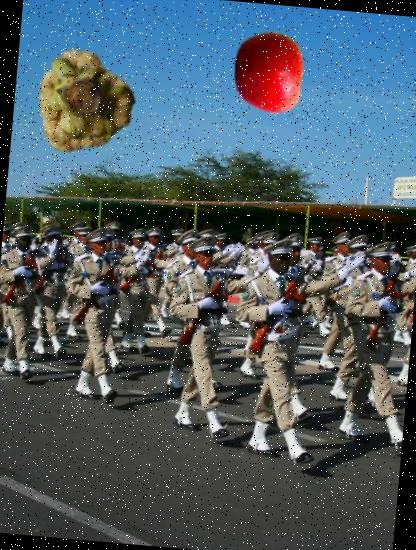Apple: (224, 28, 314, 118)
Cauliflower: (28, 41, 142, 155)
